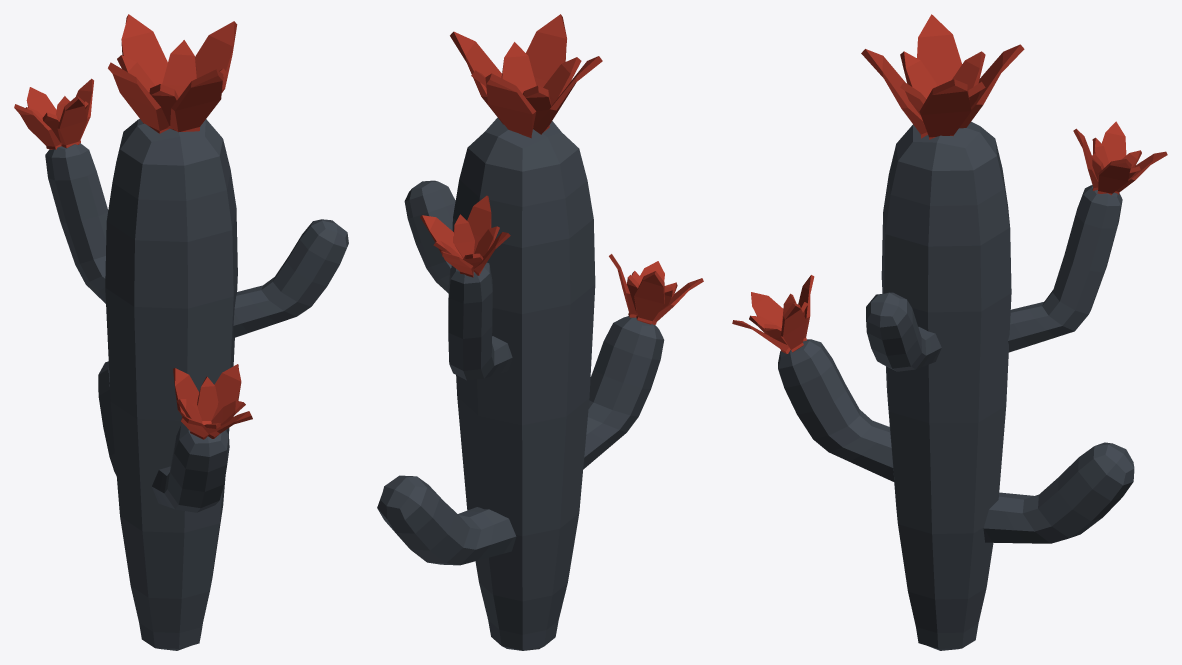
File: cc0-cactus-flowers-lod0.glb
3 views of the same model, side by side, from view 1: azimuth 30°, elevation 25°; view 2: azimuth 150°, elevation 25°; view 3: azimuth 270°, elevation 25° (orthographic).
Visible parts, largest first — view 1: part_0; view 2: part_0; view 3: part_0.
Part boxes in pixels (bbox=[...]): part_0: bbox=[14, 14, 348, 650]; part_0: bbox=[377, 14, 703, 650]; part_0: bbox=[732, 14, 1167, 650].
Size of the model in its own units: 0.7654 by 1.94 by 1.28.
